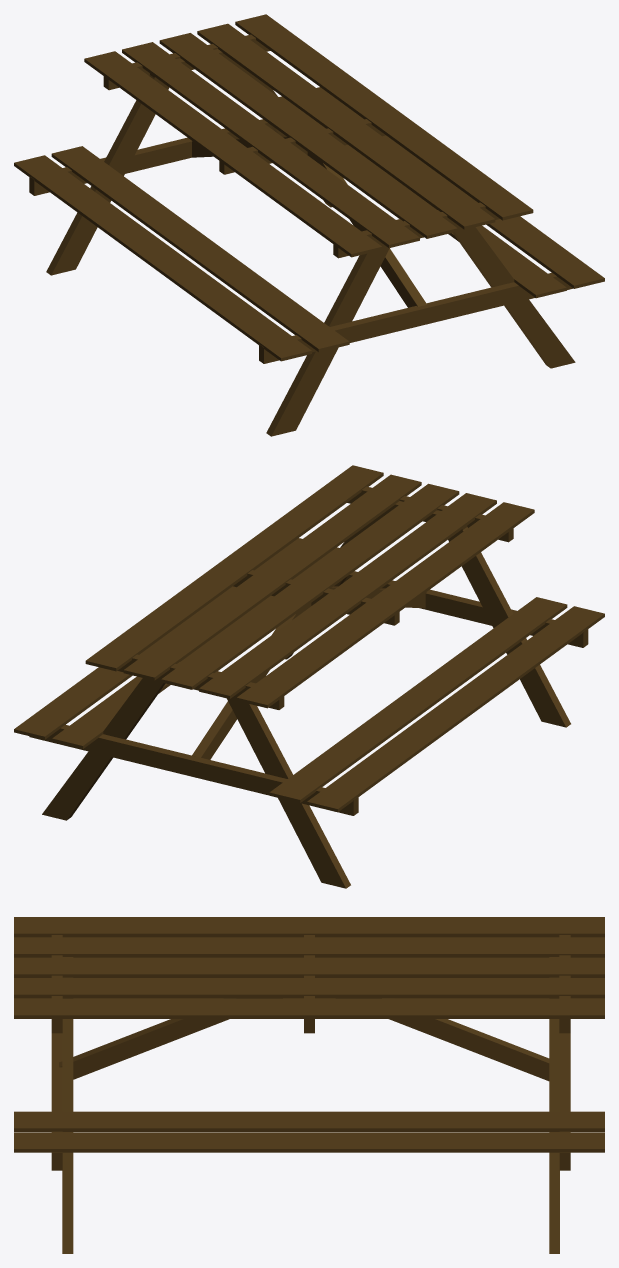
Rendered from Picnic Bench.fbx.
3 views of the same model, one above another, from view 1: azimuth 30°, elevation 25°; view 2: azimuth 150°, elevation 25°; view 3: azimuth 270°, elevation 25° (orthographic). The views are drawn at different scales.
Visible parts, largest first — view 1: pCube19; view 2: pCube19; view 3: pCube19.
Part boxes in pixels (<box>): pCube19: <box>14,14,604,436</box>; pCube19: <box>14,465,604,888</box>; pCube19: <box>14,917,604,1253</box>.
Size of the model in its own units: 1.05 by 0.5712 by 1.5.
